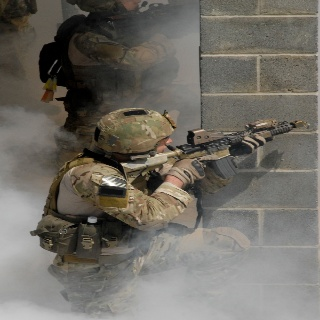rifle: (117, 116, 311, 183)
